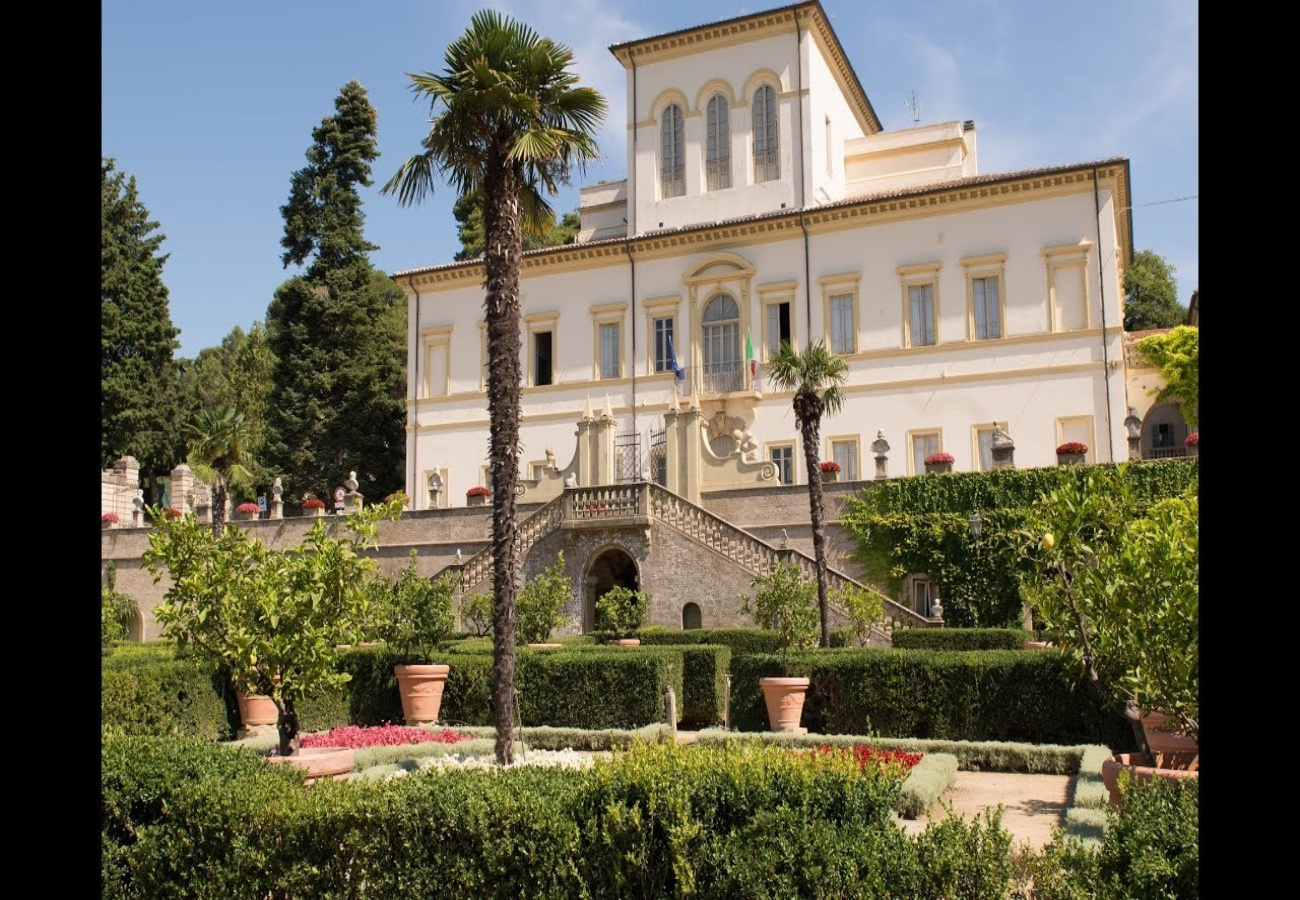Villa Caprile: (384, 1, 1138, 516)
